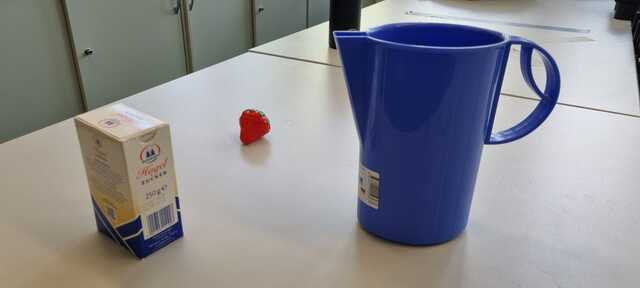004_sugar_box: (73, 101, 184, 262)
012_strawberry: (238, 109, 272, 145)
019_pitcher_base: (332, 21, 559, 245)
